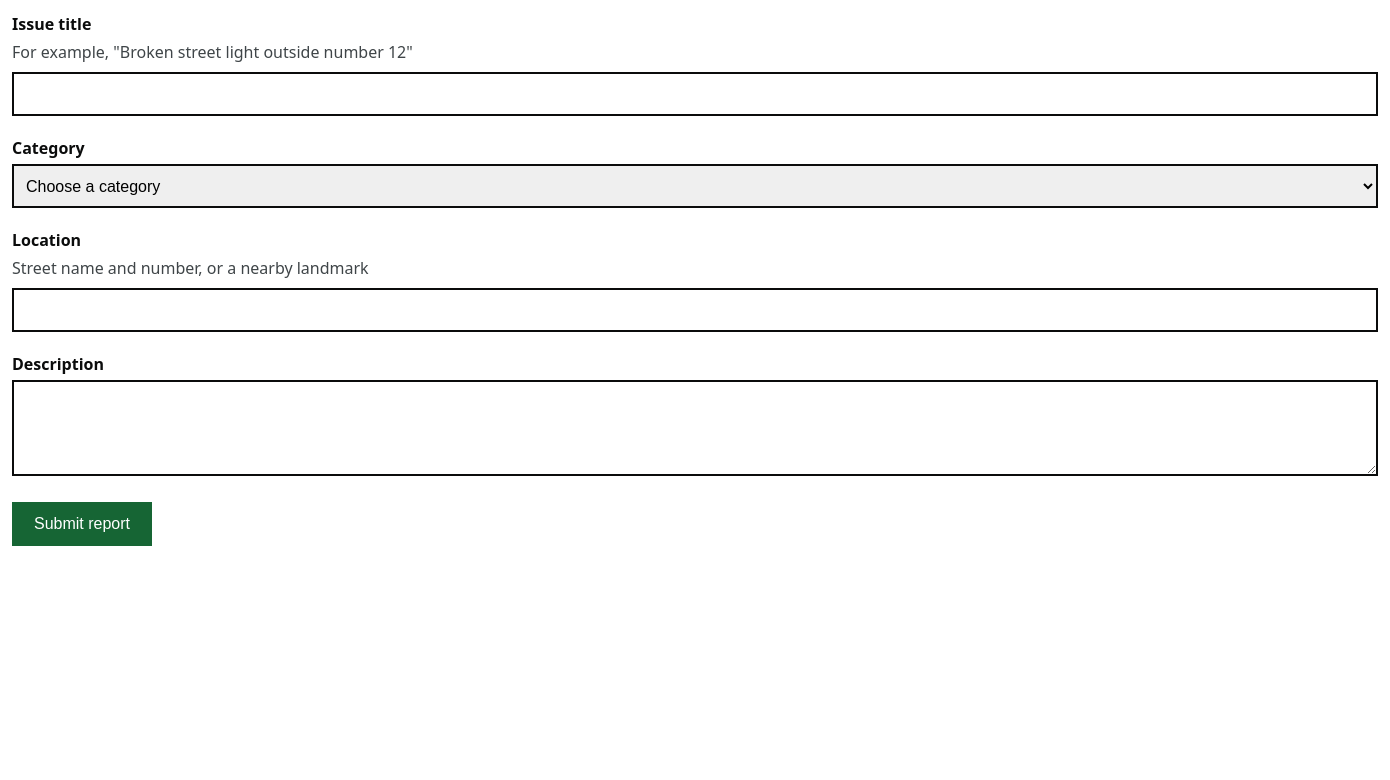
ReportForm › shows an error summary with focus when the server rejects input
Click the button "Submit report": [82, 524] box x1=12 y1=502 x2=152 y2=546
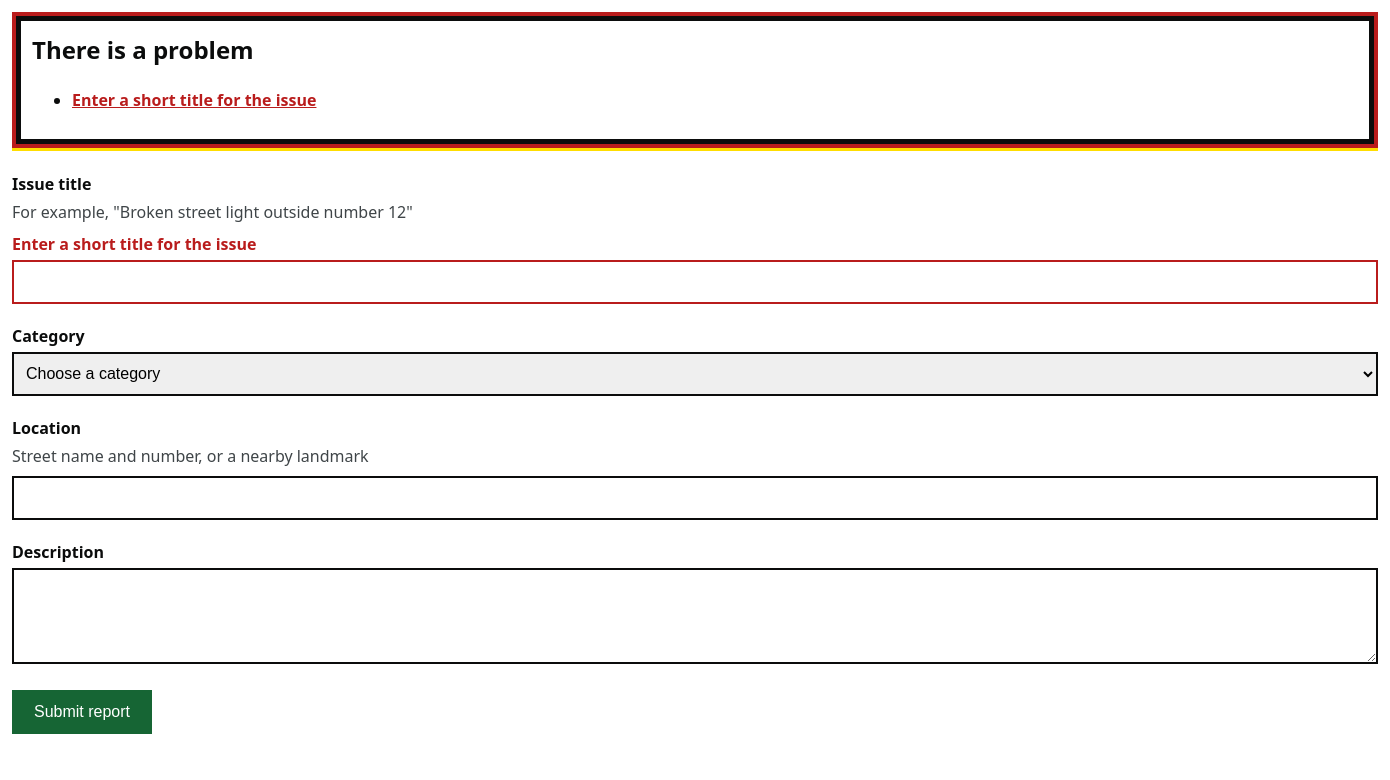
Expected: the message shows "There is a problem", x1=32 y1=33 x2=254 y2=66
